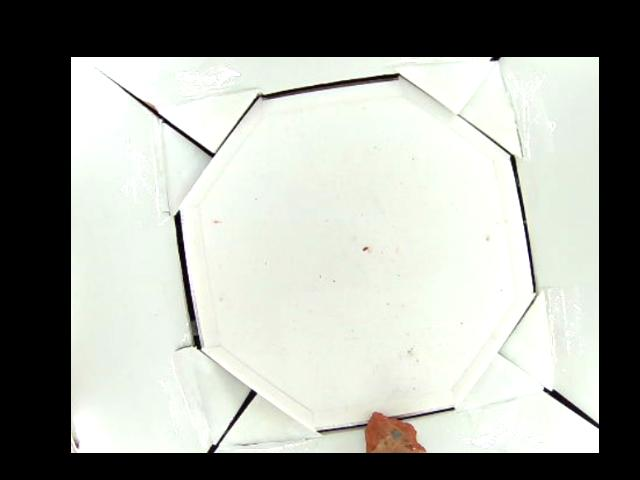Brisk: (364, 410, 429, 453)
